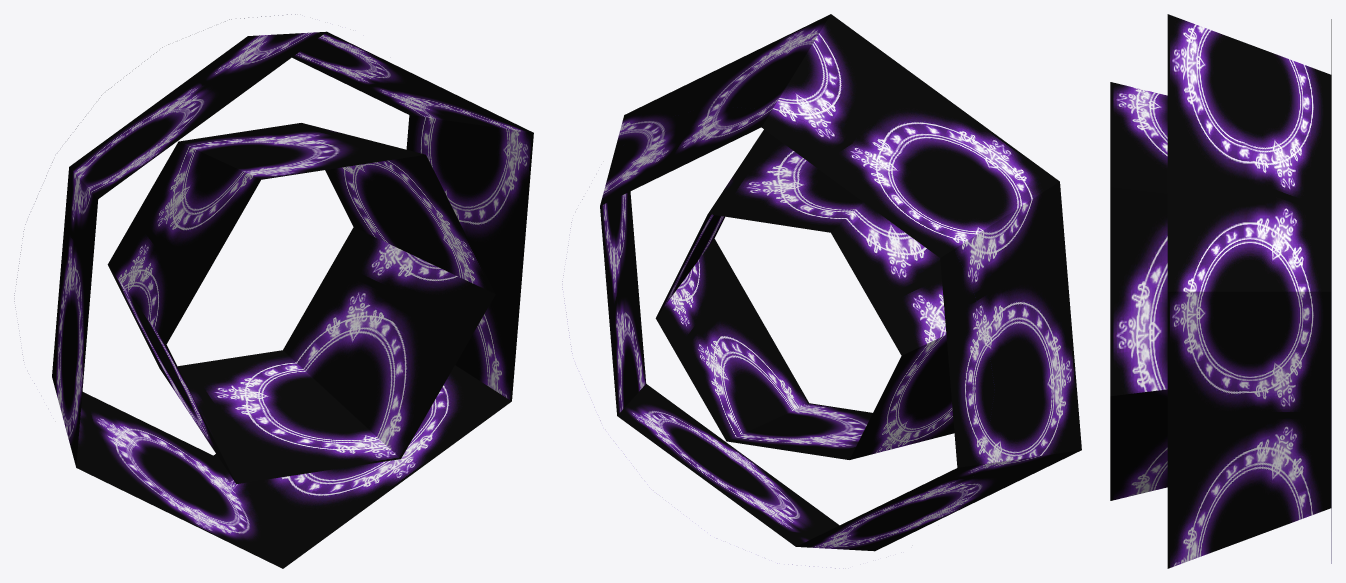
File: tx_creatplayer_priest_male.obj
The picture shows the model from 3 angles, left to right: view 1: azimuth 30°, elevation 25°; view 2: azimuth 150°, elevation 25°; view 3: azimuth 270°, elevation 25°; orthographic projection. The views are drawn at different scales.
Visible parts, largest first — view 1: Cylinder04, Cylinder05; view 2: Cylinder05, Cylinder04; view 3: Cylinder05, Cylinder04, Cylinder01.
Boxes of the visible parts, <box> form: Cylinder04: <box>107,123,495,483</box>; Cylinder05: <box>52,31,533,568</box>; Cylinder05: <box>600,14,1081,551</box>; Cylinder04: <box>655,129,954,459</box>; Cylinder05: <box>1167,14,1331,568</box>; Cylinder04: <box>1110,82,1167,500</box>; Cylinder01: <box>1331,19,1331,563</box>.
Size of the model in its own units: 71.23 by 78.3 by 27.14.
2 materials, 2 textured.
